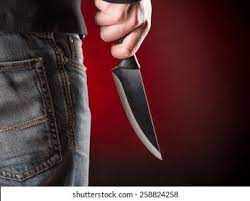weapon-unusual: (100, 23, 173, 163)
